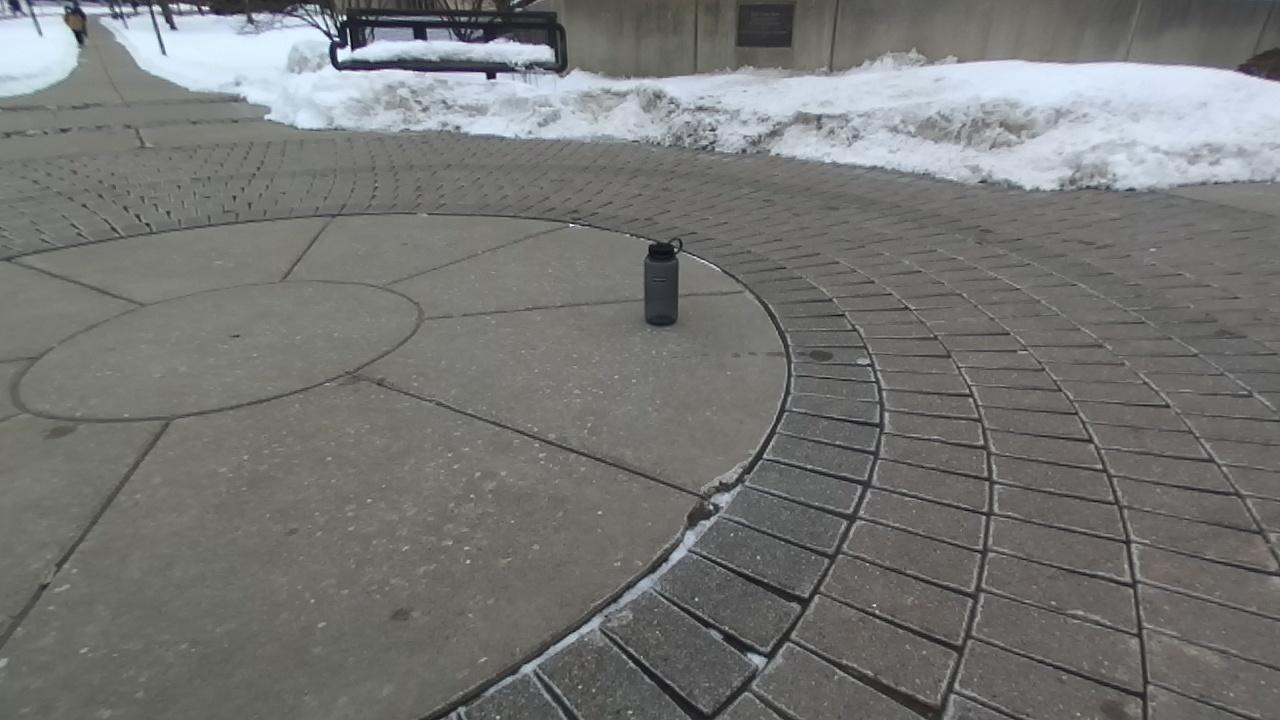bottle: (644, 238, 682, 325)
